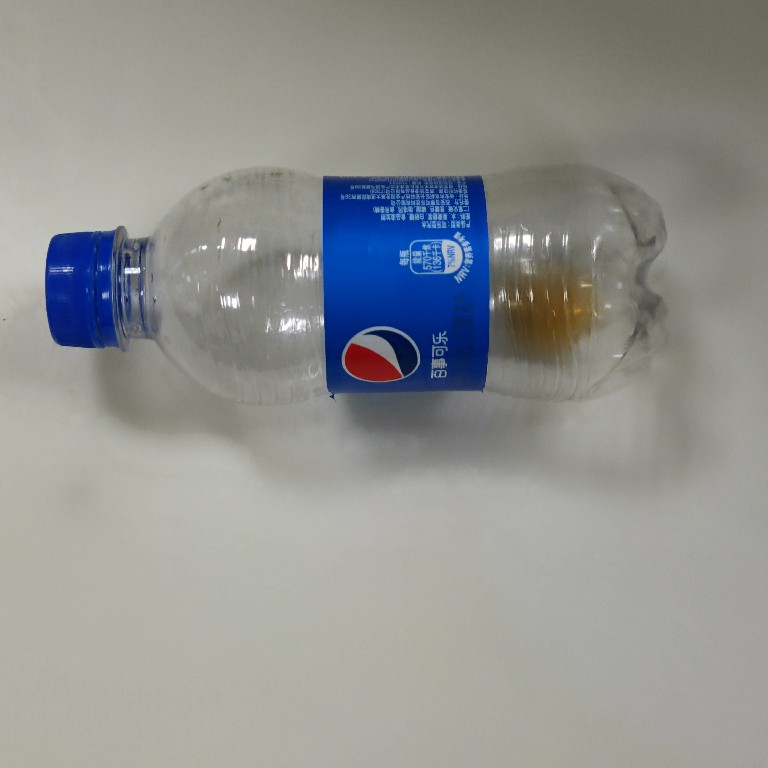bottle: (41, 157, 675, 415)
